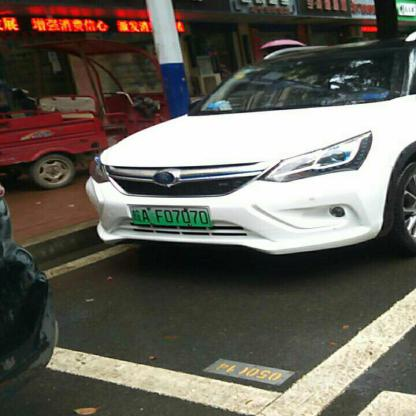lp: (130, 206, 210, 225)
